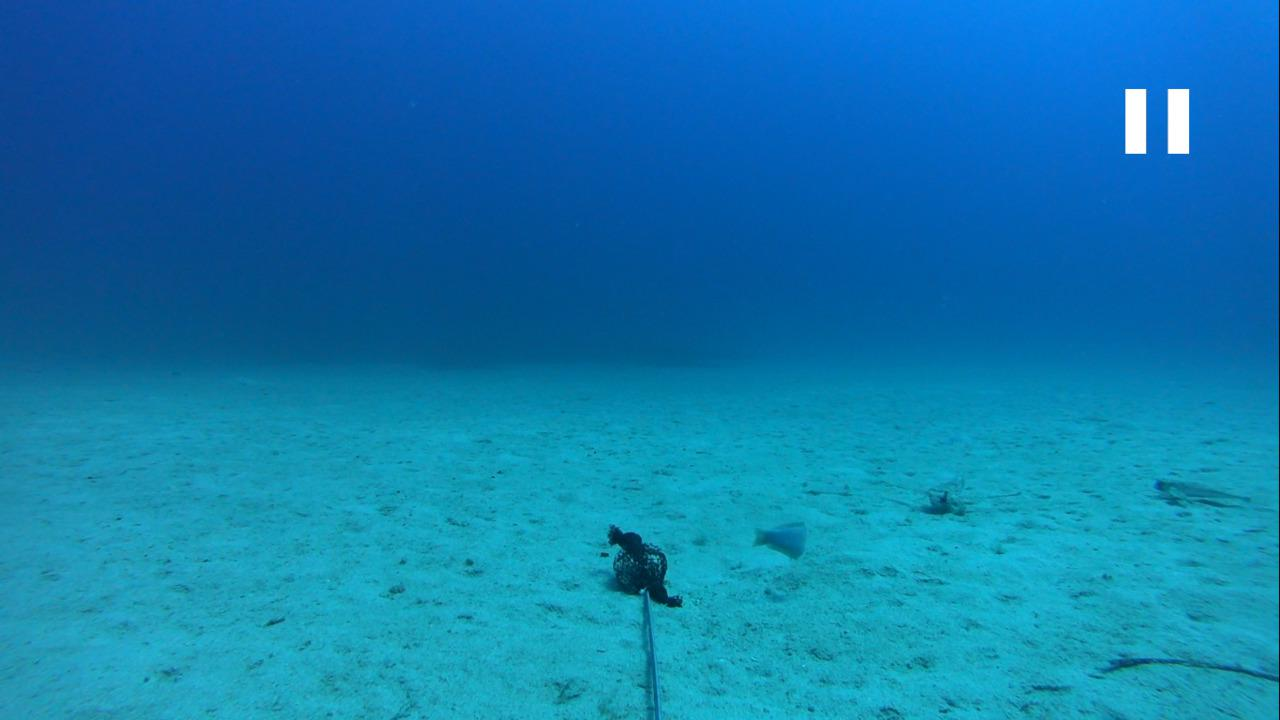dactylopterus: (1143, 473, 1269, 516), (906, 484, 970, 517)
raor: (742, 514, 814, 563)
